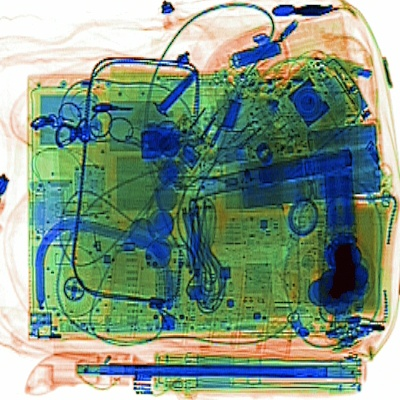powerbank: (225, 116, 388, 211)
